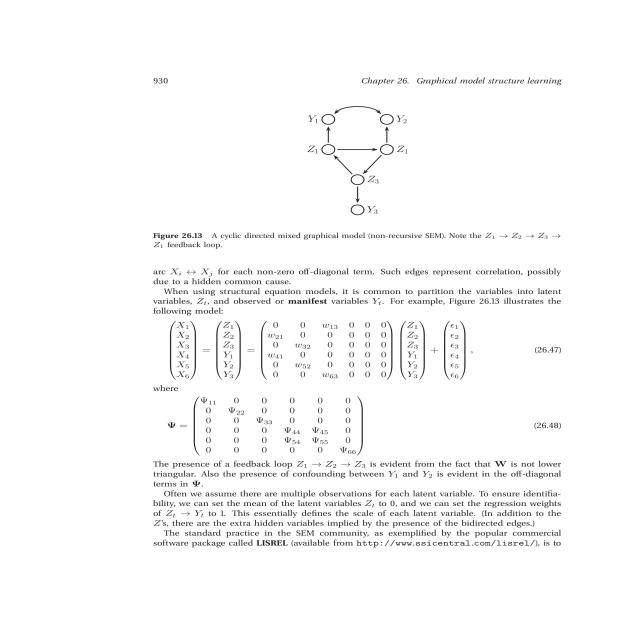diagram: (114, 96, 594, 257)
